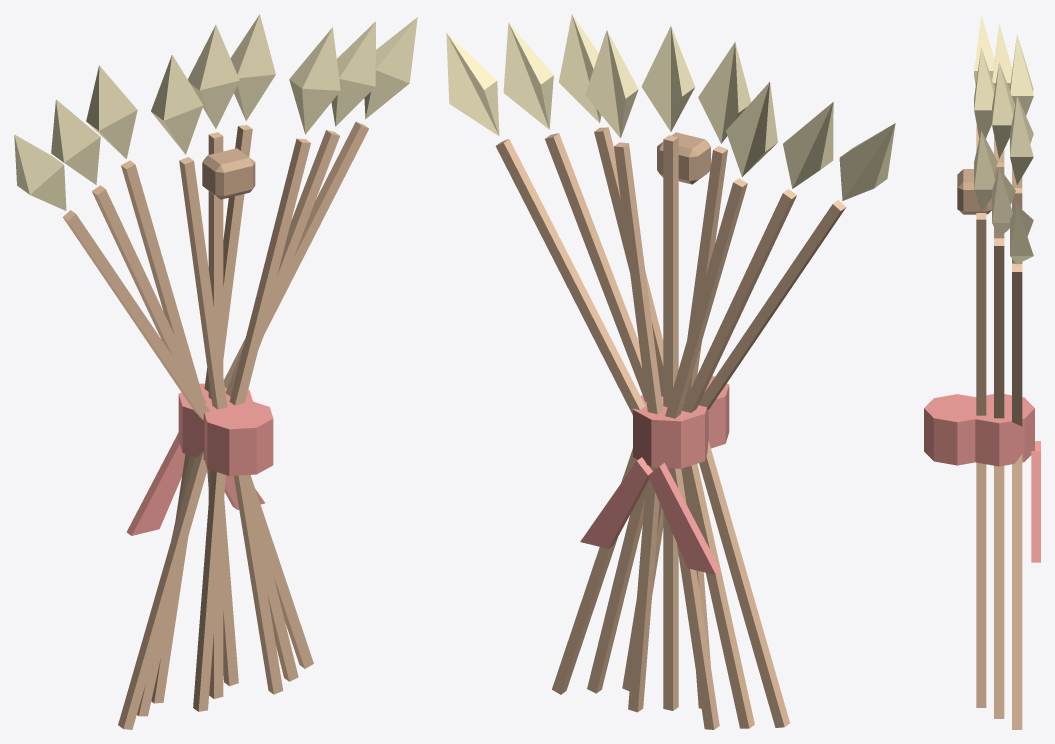
File: wheat_sheaf.glb
The picture shows the model from 3 angles, left to right: view 1: azimuth 30°, elevation 25°; view 2: azimuth 150°, elevation 25°; view 3: azimuth 270°, elevation 25°; orthographic projection. The views are drawn at different scales.
Visible parts, largest first — view 1: WheatSheaf; view 2: WheatSheaf; view 3: WheatSheaf.
Boxes of the visible parts, left/top/right/bottom form: WheatSheaf: left=14, top=14, right=417, bottom=729; WheatSheaf: left=446, top=14, right=895, bottom=729; WheatSheaf: left=924, top=15, right=1040, bottom=729.
Bounding box in the file's own units: 0.3444 × 0.5239 × 0.0891.
